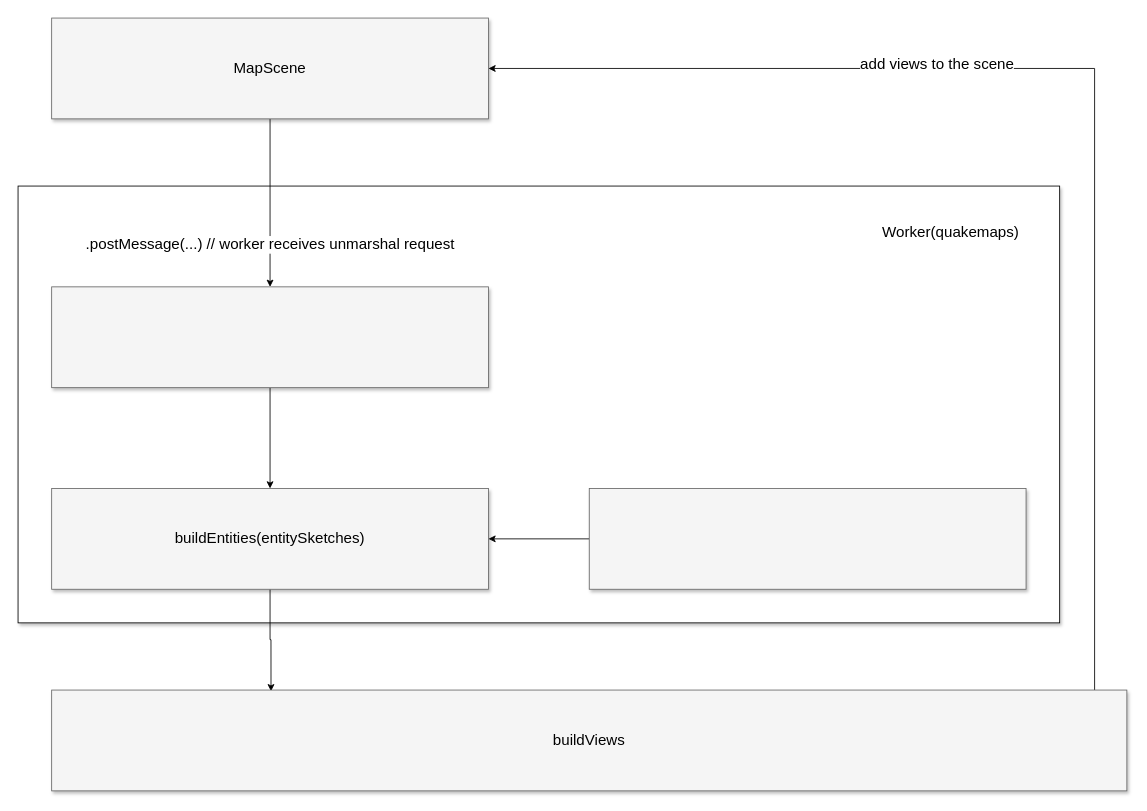
The diagram is 1147 pixels wide and 811 high, and some of its shapes have lost their labels. The shapes that lost their labels are listed below. From the top down, each one's centre as x and y in pixels, then its label:
At point 270,338: "unmarshalMap(mapFilename, mapFilenameContents)".
At point 808,539: "buildGeometryAttributes(brushes)".
